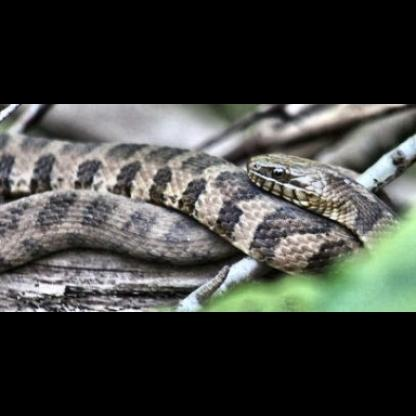Snake: (3, 134, 404, 293), (240, 139, 408, 283)
